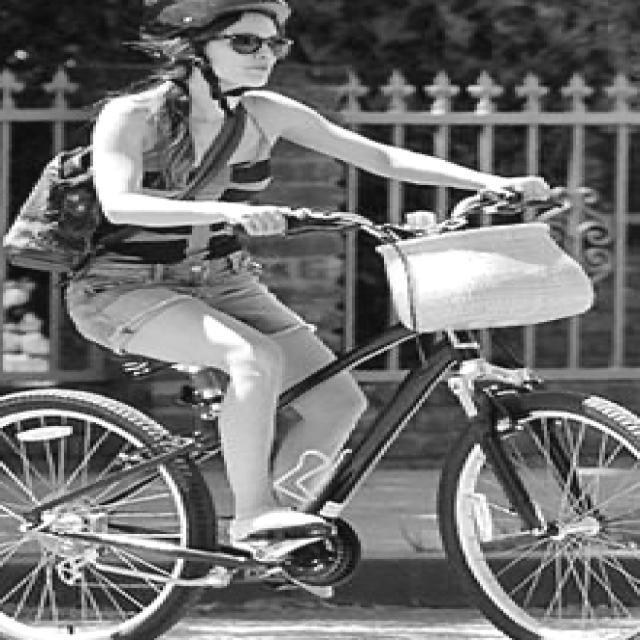Helmet: (146, 0, 291, 94)
